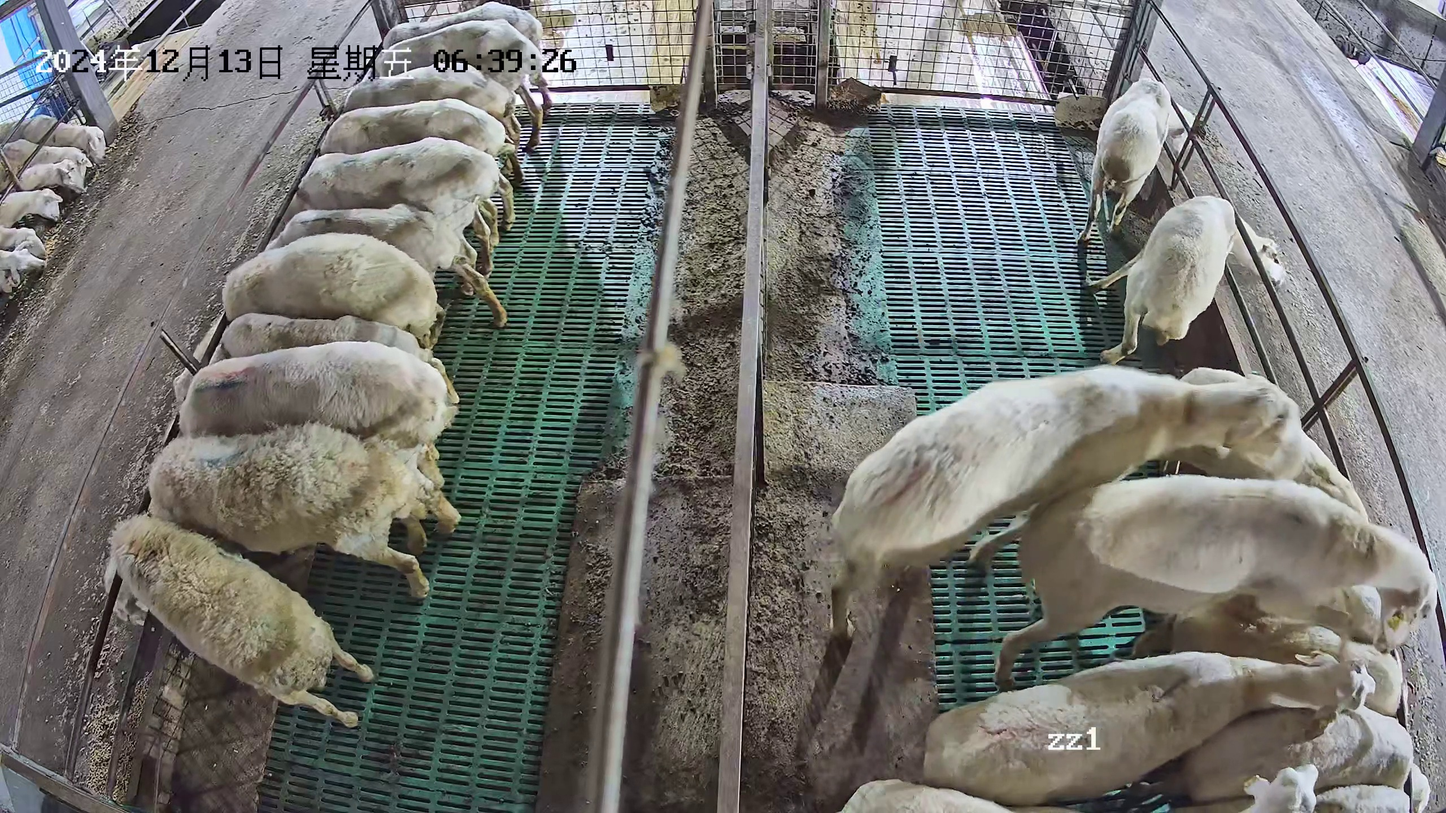Nmounting: (965, 470, 1439, 687)
